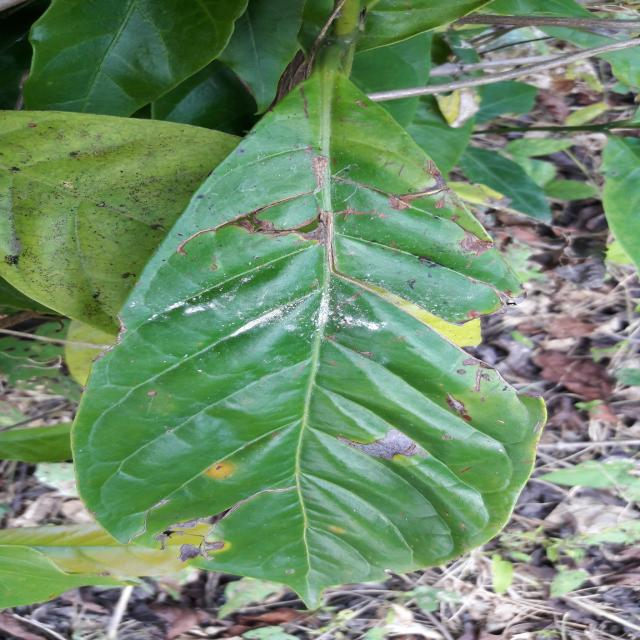Enfermedad-Roya: (69, 33, 547, 609)
